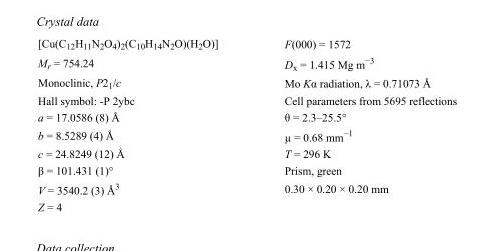table: (37, 36, 456, 212)
table column: (37, 36, 250, 212), (250, 36, 456, 212)
table row: (37, 52, 456, 73), (37, 178, 456, 198), (37, 125, 456, 144), (37, 73, 456, 91), (37, 91, 456, 108), (37, 108, 456, 125), (37, 144, 456, 161), (37, 161, 456, 178), (37, 36, 456, 52), (37, 198, 456, 212)
